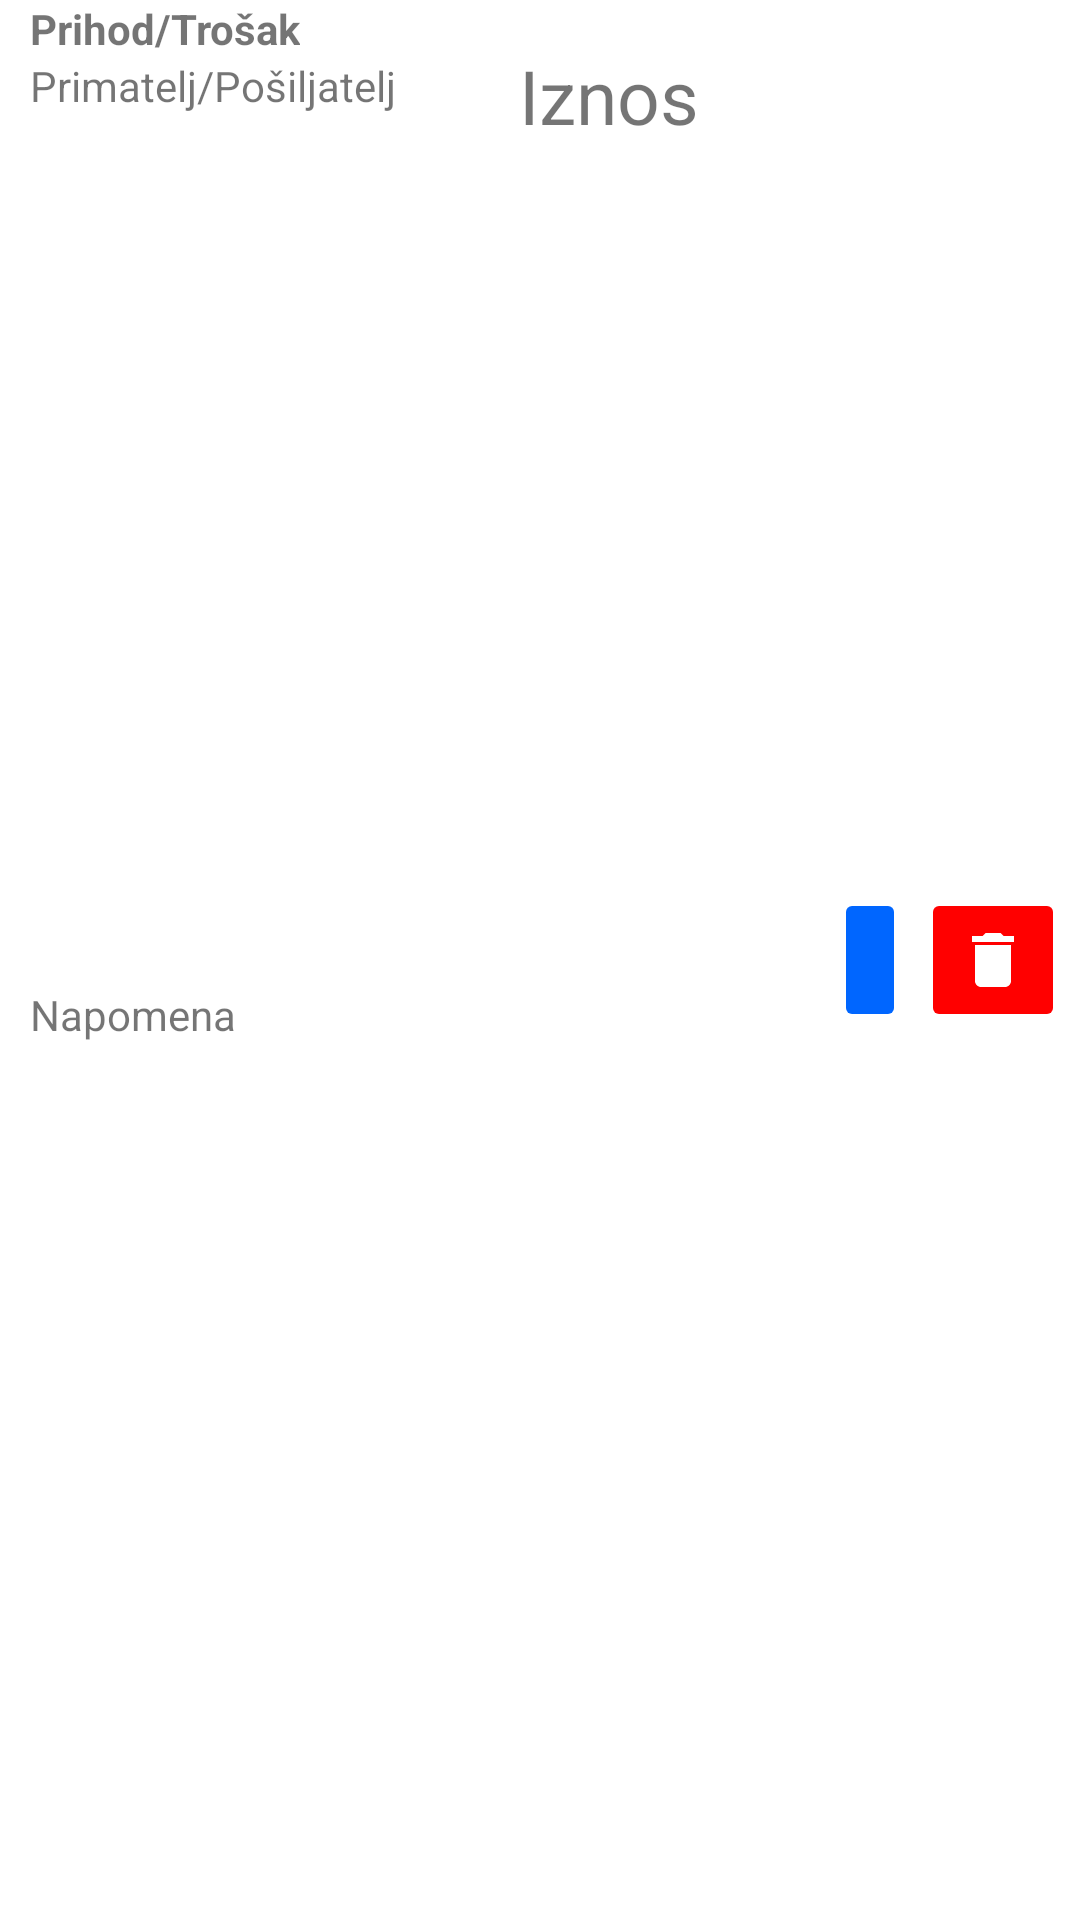

Icons on this 1080 x 1920 Android screen, each with the point to tap as point (x, y):
Obriši: point (993, 960)
